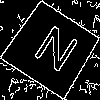N: (26, 24, 82, 81)
